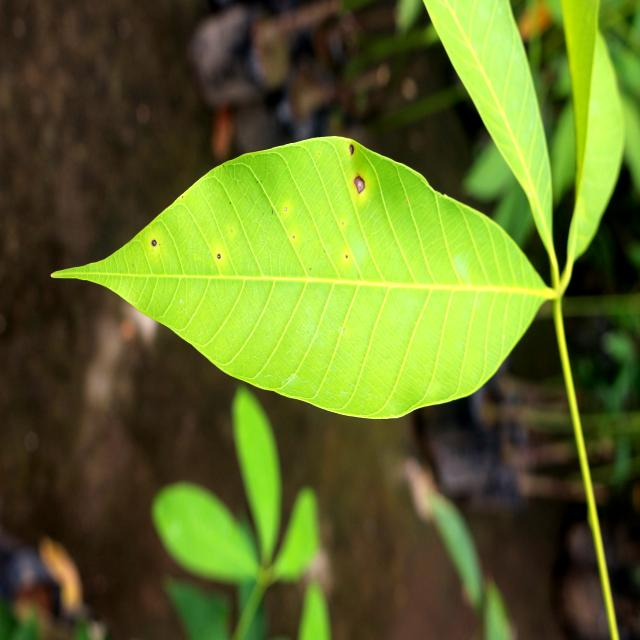Colletotrichum: (355, 176, 365, 193), (350, 145, 354, 155), (152, 240, 156, 247), (217, 254, 221, 258), (285, 207, 287, 211)
